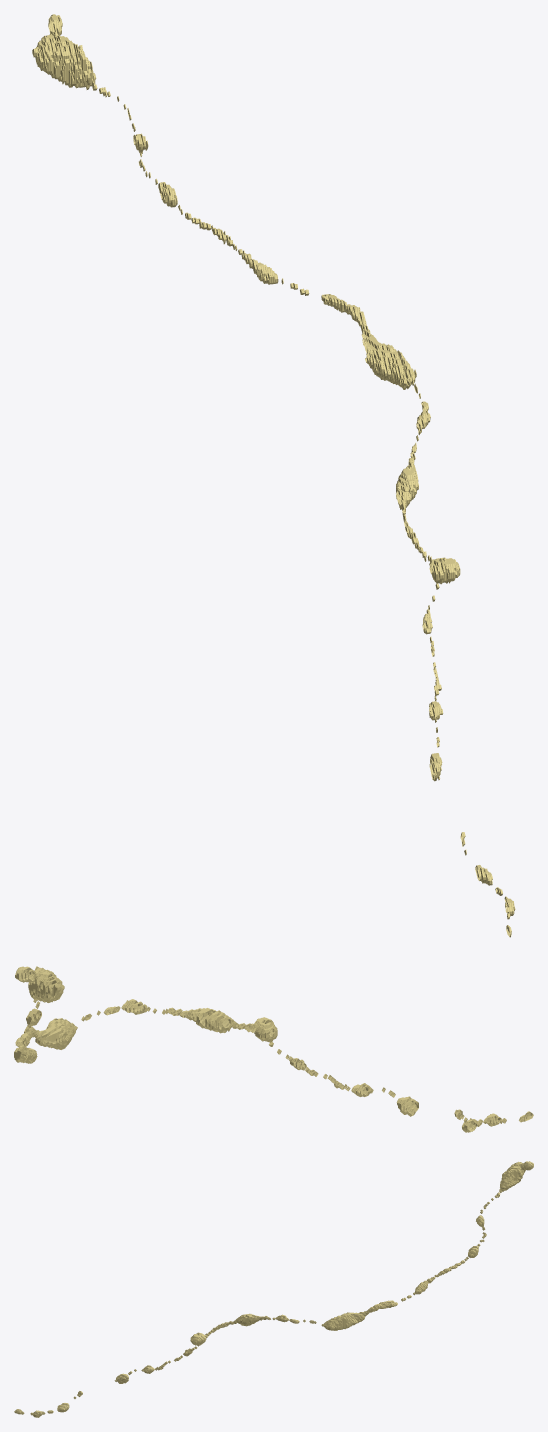
Rendered from SVV_PLNL.gltf.
3 renders of one model, top to bottom at view 1: azimuth 30°, elevation 25°; view 2: azimuth 150°, elevation 25°; view 3: azimuth 270°, elevation 25°, orthographic. The views are drawn at different scales.
Parts seen in each view (by area): view 1: PLNL; view 2: PLNL; view 3: PLNL.
Part boxes in pixels (x1,y1,x2,y2): PLNL: [32, 14, 515, 937]; PLNL: [14, 966, 533, 1132]; PLNL: [14, 1161, 533, 1417].
Size of the model in its own units: 52112 by 119350 by 212075.
